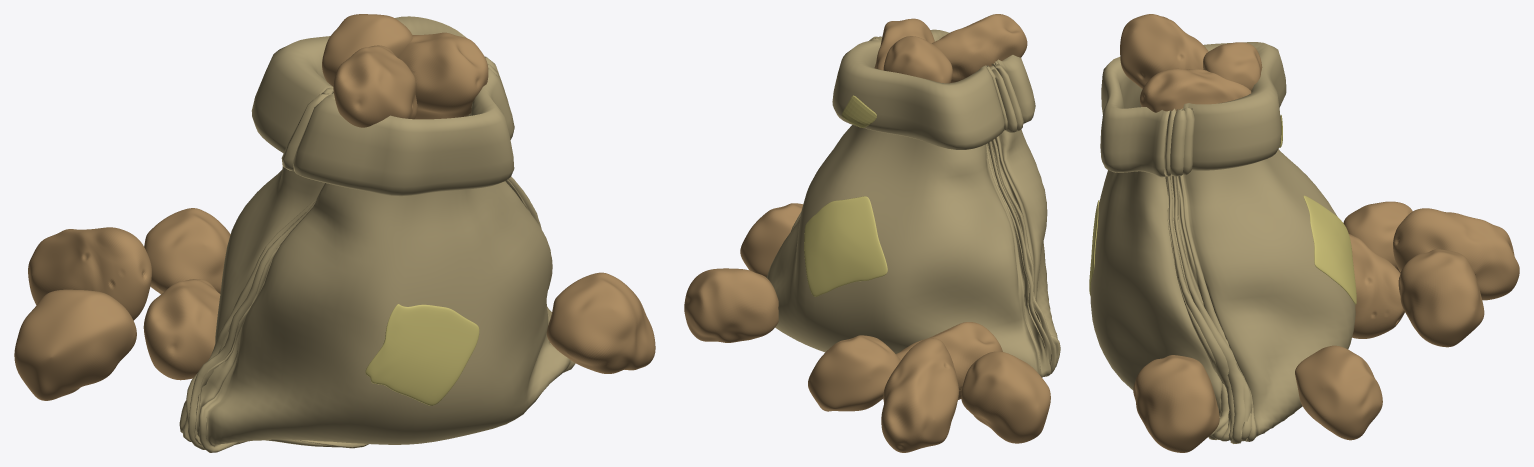
File: potatoBagAFull.fbx
3 renders of one model, left to right at view 1: azimuth 30°, elevation 25°; view 2: azimuth 150°, elevation 25°; view 3: azimuth 270°, elevation 25°, orthographic. The views are drawn at different scales.
Parts seen in each view (by area): view 1: PotatoBag.001, PutatoA.002, PutatoA.005, PatchBig.003, PotatoB.004, PotatoB.003, PotatoB.002, PutatoA.003, PotatoB.001, PutatoA.001; view 2: PotatoBag.001, PotatoB.004, PatchBig.002, PutatoA.002, PutatoA.004, PutatoA.003, PotatoB.001, PutatoA.005, PutatoA.001, PotatoB.003, PotatoB.002, PatchSmall.001; view 3: PotatoBag.001, PutatoA.005, PutatoA.003, PotatoB.004, PutatoA.004, PotatoB.001, PotatoB.003, PotatoB.002, PatchBig.002, PutatoA.002, PutatoA.001.
Boxes of the visible parts, x1,y1,x2,y2 form: PotatoBag.001: [179, 16, 575, 452]; PutatoA.002: [14, 289, 136, 400]; PutatoA.005: [546, 272, 655, 373]; PatchBig.003: [365, 304, 479, 405]; PotatoB.004: [28, 227, 151, 320]; PotatoB.003: [143, 279, 220, 380]; PotatoB.002: [398, 32, 488, 119]; PutatoA.003: [144, 208, 230, 294]; PotatoB.001: [333, 45, 417, 127]; PutatoA.001: [322, 14, 412, 86]; PotatoBag.001: [766, 29, 1060, 377]; PotatoB.004: [881, 338, 958, 452]; PatchBig.002: [804, 196, 887, 296]; PutatoA.002: [961, 351, 1050, 443]; PutatoA.004: [684, 268, 778, 342]; PutatoA.003: [808, 335, 900, 411]; PotatoB.001: [932, 14, 1027, 82]; PutatoA.005: [740, 203, 803, 276]; PutatoA.001: [883, 36, 952, 83]; PotatoB.003: [896, 322, 1002, 399]; PotatoB.002: [874, 18, 934, 70]; PatchSmall.001: [841, 95, 876, 127]; PotatoBag.001: [1090, 42, 1355, 443]; PutatoA.005: [1133, 355, 1219, 452]; PutatoA.003: [1398, 249, 1484, 347]; PotatoB.004: [1393, 208, 1519, 300]; PutatoA.004: [1295, 345, 1382, 440]; PotatoB.001: [1120, 14, 1208, 88]; PotatoB.003: [1349, 234, 1404, 338]; PotatoB.002: [1140, 68, 1251, 112]; PatchBig.002: [1303, 195, 1356, 304]; PutatoA.002: [1343, 201, 1412, 272]; PutatoA.001: [1203, 42, 1262, 90].
Size of the model in its own units: 252 by 201 by 225.
